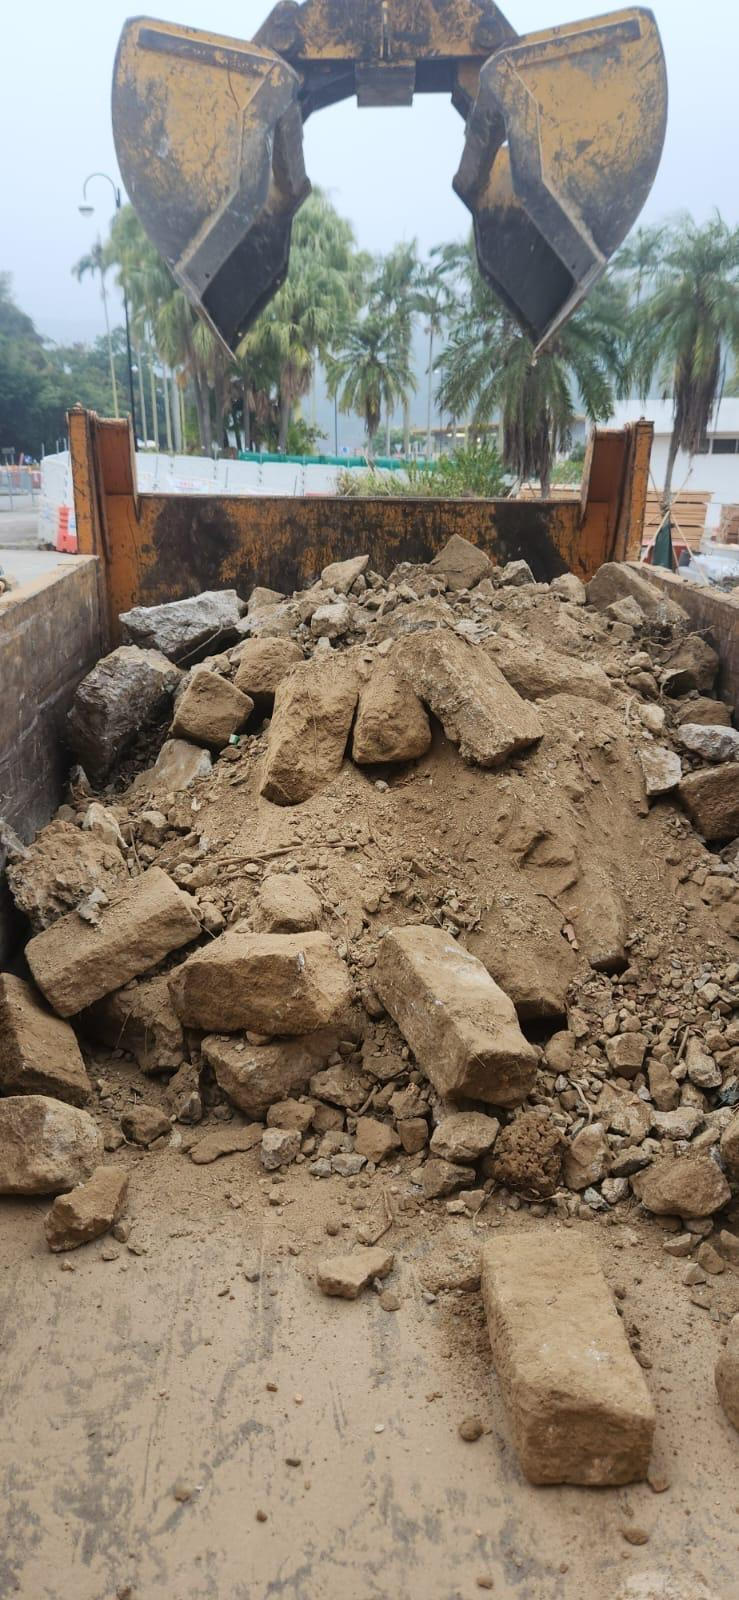dry: (48, 557, 735, 1217)
